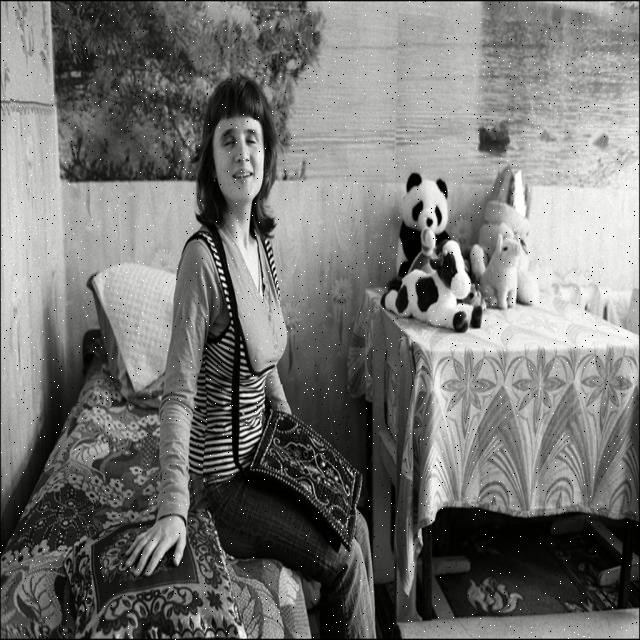panda: (395, 168, 452, 284)
